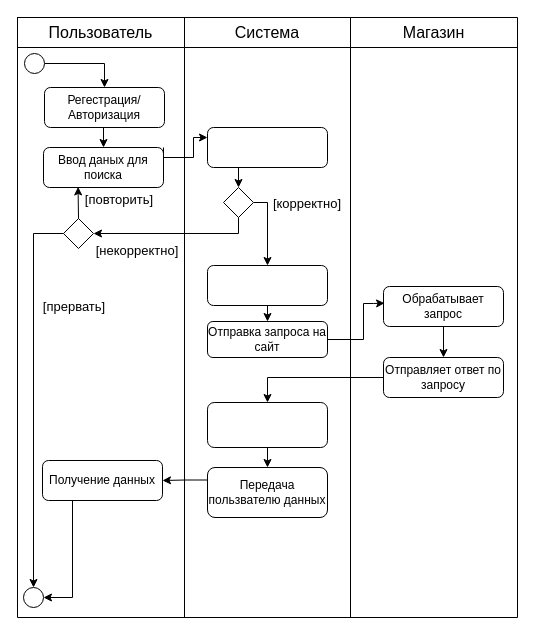
Some shapes in this 535 by 635 pixel diagram are drawn without their labels. Here are the shapes that lost their labels. From the top down, the centre of each, then its label:
At (x=267, y=147): "Проверка данных на корректность".
At (x=267, y=285): "Формирование запроса для сайта".
At (x=267, y=425): "Обработка ответа с сайта".
